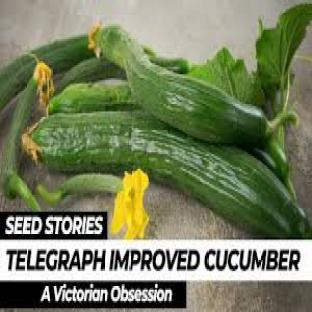Cucumber: (24, 112, 310, 237), (96, 26, 297, 146), (0, 36, 93, 111), (0, 78, 40, 211), (37, 173, 122, 206), (49, 84, 139, 115), (58, 58, 125, 92)
